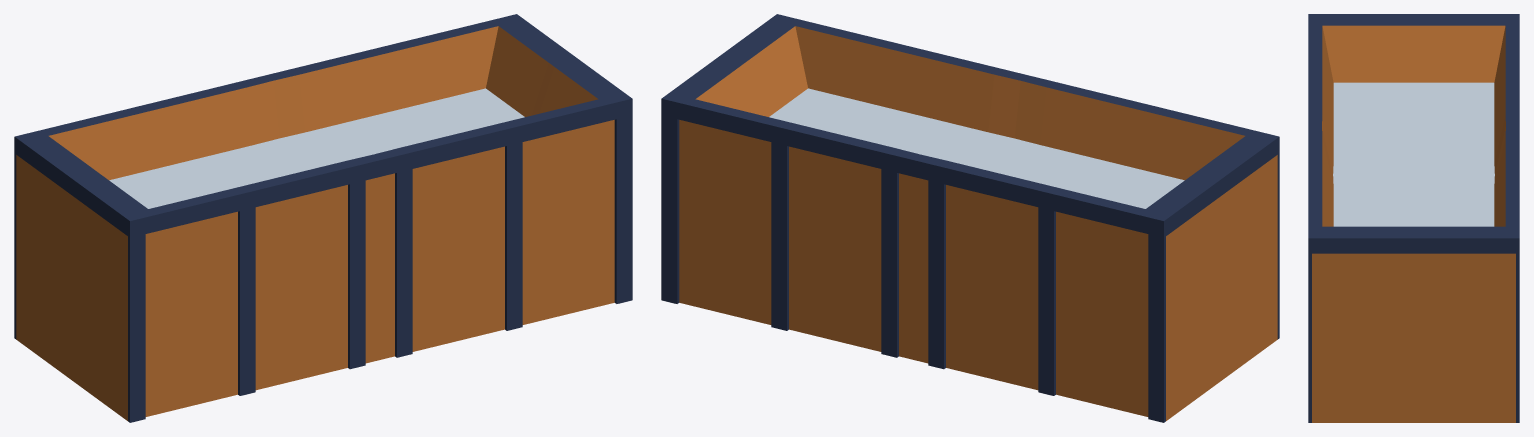
Rendered from LCargoModel05.fbx.
3 views of the same model, side by side, from view 1: azimuth 30°, elevation 25°; view 2: azimuth 150°, elevation 25°; view 3: azimuth 270°, elevation 25° (orthographic). The views are drawn at different scales.
Visible parts, largest first — view 1: LCargoModel05; view 2: LCargoModel05; view 3: LCargoModel05.
Part boxes in pixels (left/top/right/bottom): LCargoModel05: left=14, top=14, right=632, bottom=422; LCargoModel05: left=661, top=14, right=1279, bottom=422; LCargoModel05: left=1308, top=14, right=1519, bottom=422.
Size of the model in its own units: 731 by 280 by 291.
